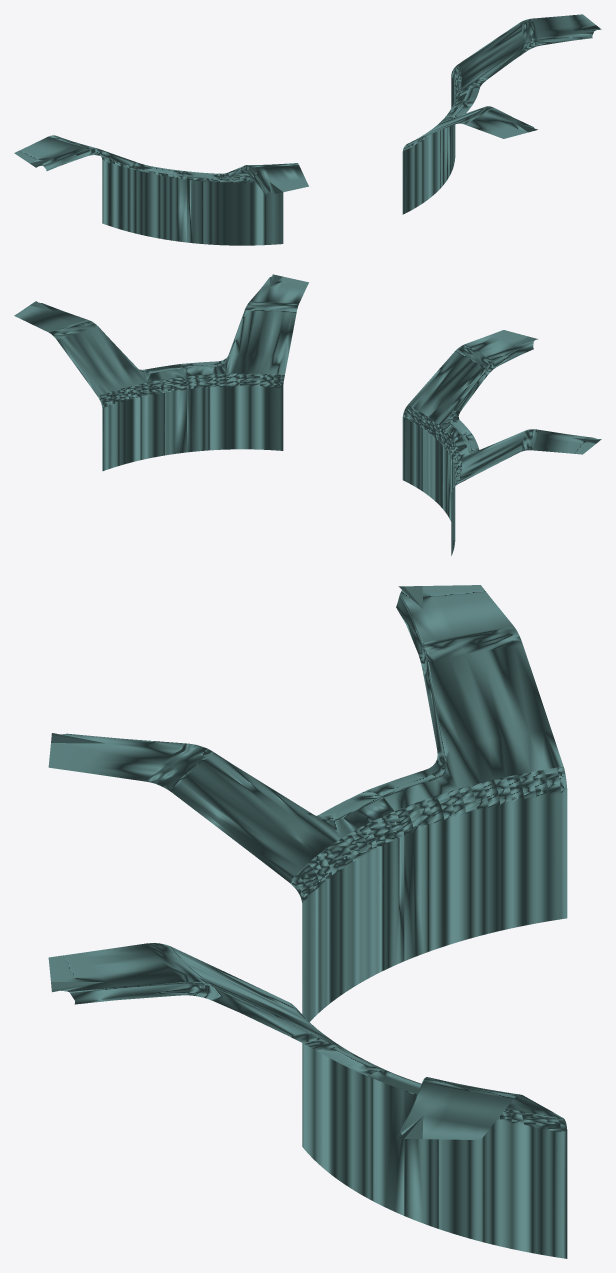
The model's file is promenade_waterfall_glass_a.glb.
The picture shows the model from 3 angles, top to bottom: view 1: azimuth 30°, elevation 25°; view 2: azimuth 150°, elevation 25°; view 3: azimuth 270°, elevation 25°; orthographic projection. The views are drawn at different scales.
Bounding box in the file's own units: 67.18 × 12.76 × 26.54.
